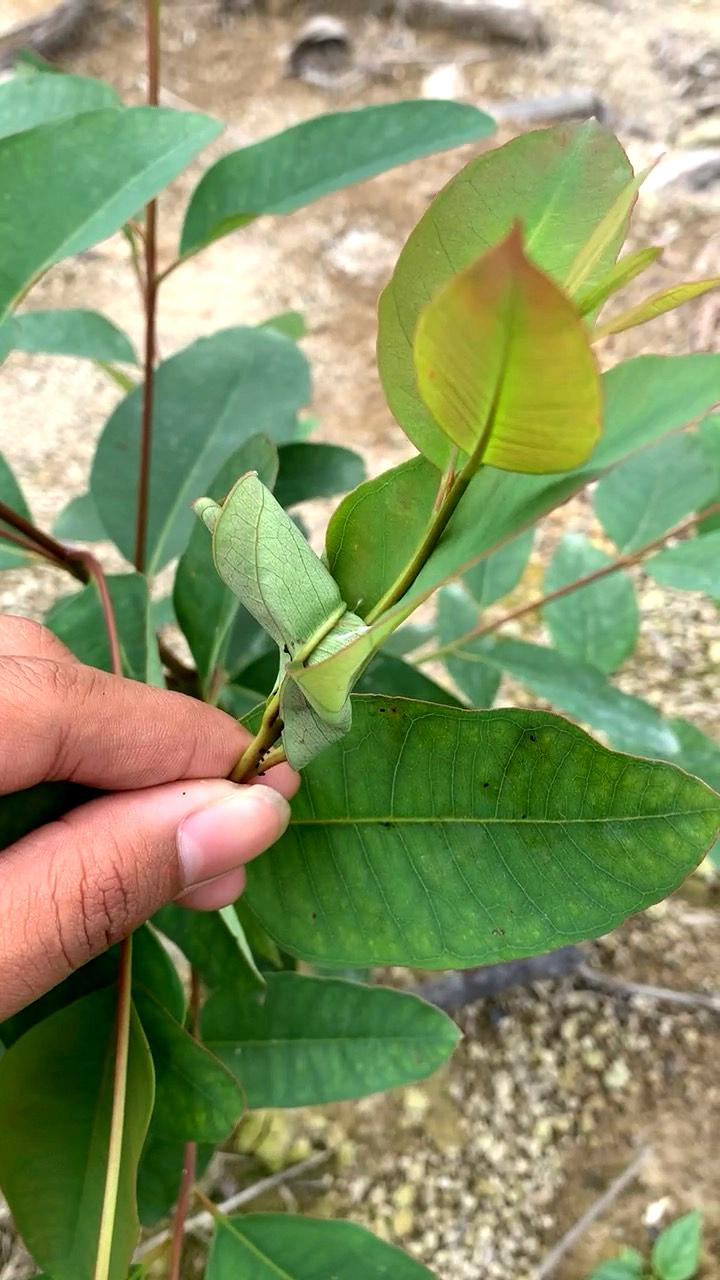Leaf Roller - Leaf: (176, 451, 403, 728)
